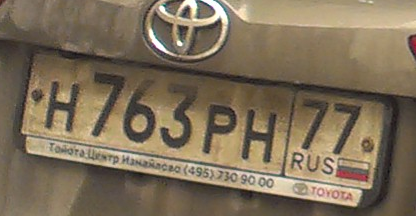character: (160, 78, 198, 152), (89, 71, 124, 145), (124, 74, 158, 148), (199, 102, 238, 164), (240, 106, 278, 167), (42, 80, 81, 135), (297, 97, 329, 155), (333, 98, 362, 156)
